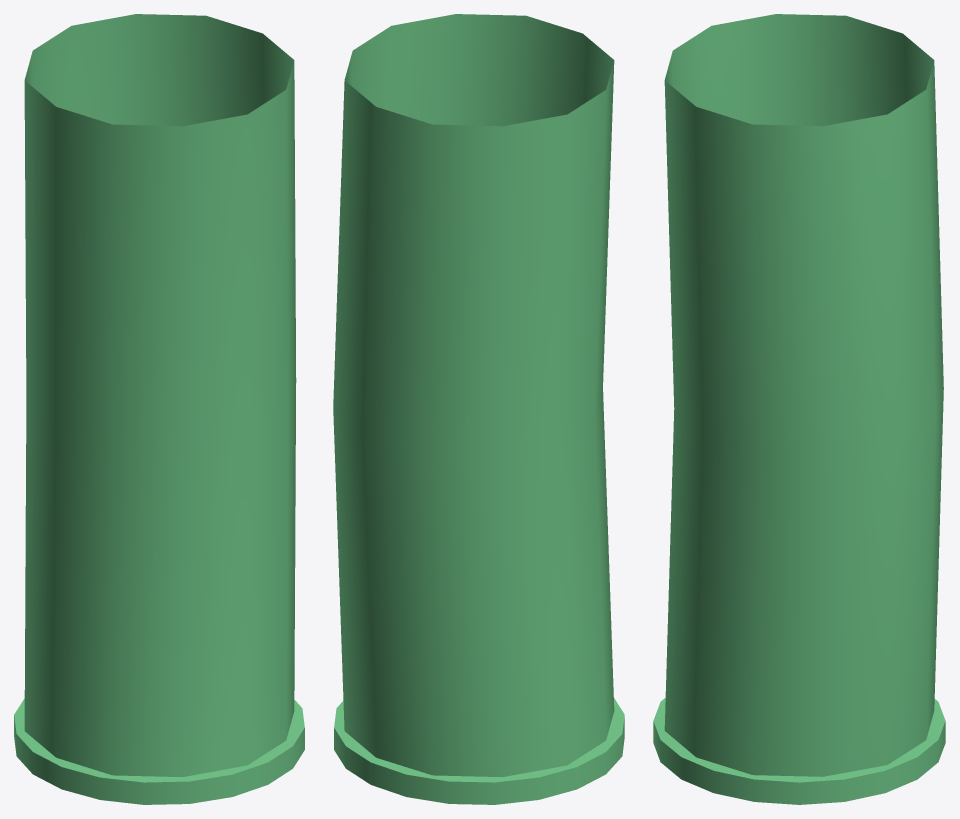
The model's file is Pipe_Thick_Mid.fbx.
The picture shows the model from 3 angles, left to right: view 1: azimuth 30°, elevation 25°; view 2: azimuth 150°, elevation 25°; view 3: azimuth 270°, elevation 25°; orthographic projection.
Visible parts, largest first — view 1: Pipe_Thick_Mid; view 2: Pipe_Thick_Mid; view 3: Pipe_Thick_Mid.
Part boxes in pixels (box(x1,y1,x2,y2)): Pipe_Thick_Mid: box(14, 14, 304, 804); Pipe_Thick_Mid: box(333, 14, 624, 804); Pipe_Thick_Mid: box(653, 14, 945, 804).
Size of the model in its own units: 275 by 700 by 275.
